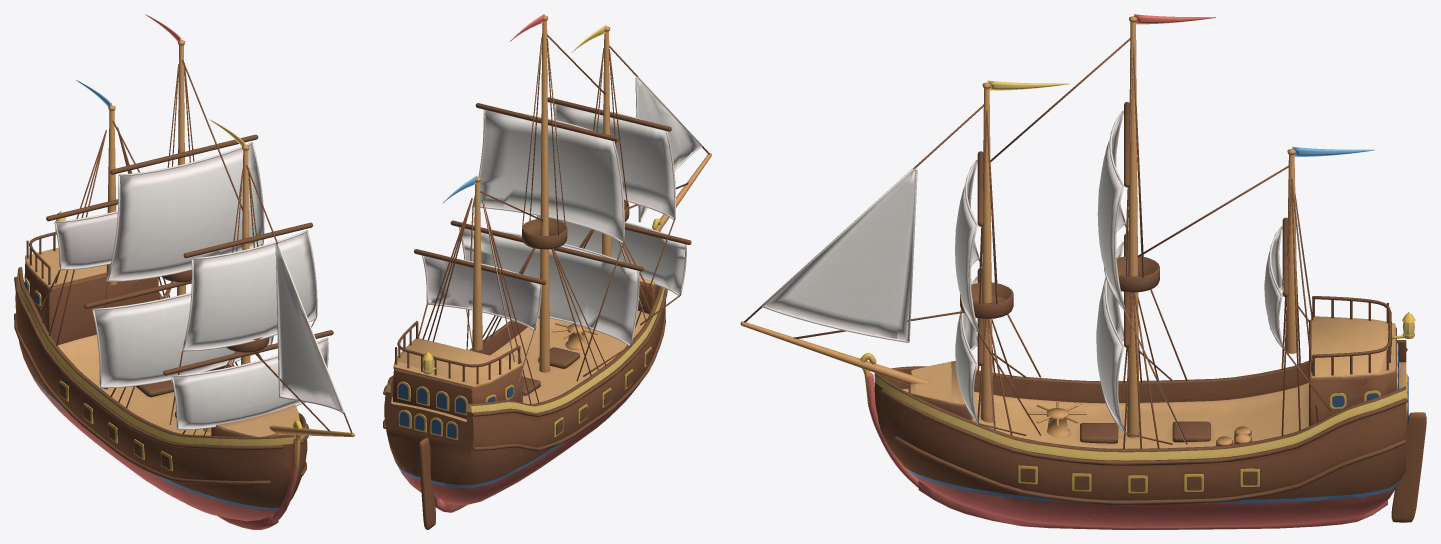
The model's file is pirate-ship-light.fbx.
3 renders of one model, left to right at view 1: azimuth 30°, elevation 25°; view 2: azimuth 150°, elevation 25°; view 3: azimuth 270°, elevation 25°, orthographic. The views are drawn at different scales.
Parts seen in each view (by area): view 1: pirate-ship_body; view 2: pirate-ship_body, pirate-ship_rudder, pirate-ship_capstan; view 3: pirate-ship_body, pirate-ship_rudder, pirate-ship_capstan.
Boxes of the visible parts, left/top/right/bottom form: pirate-ship_body: left=14, top=40, right=354, bottom=529; pirate-ship_body: left=383, top=15, right=711, bottom=512; pirate-ship_rudder: left=419, top=437, right=435, bottom=529; pirate-ship_capstan: left=552, top=323, right=598, bottom=349; pirate-ship_body: left=740, top=16, right=1415, bottom=529; pirate-ship_rudder: left=1391, top=412, right=1426, bottom=522; pirate-ship_capstan: left=1028, top=401, right=1086, bottom=437.
Bounding box in the file's own units: 10.76 × 23.3 × 28.14.
7 materials, 1 textured.
